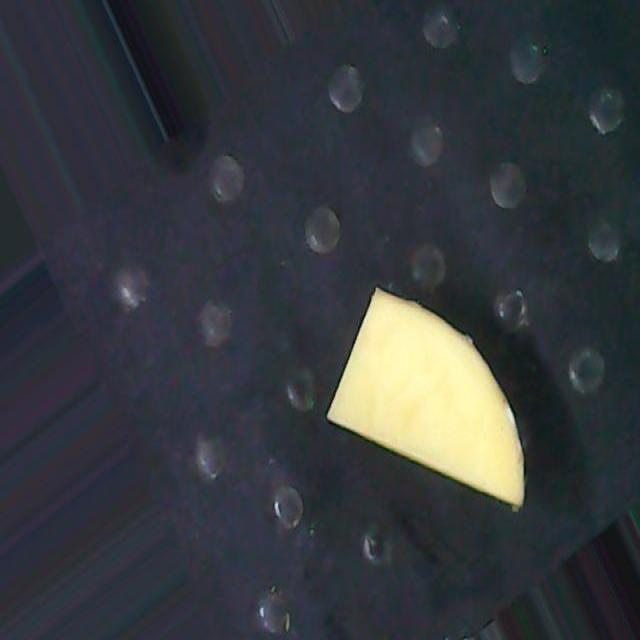-Kitchen waste - potato-: (324, 286, 524, 507)
